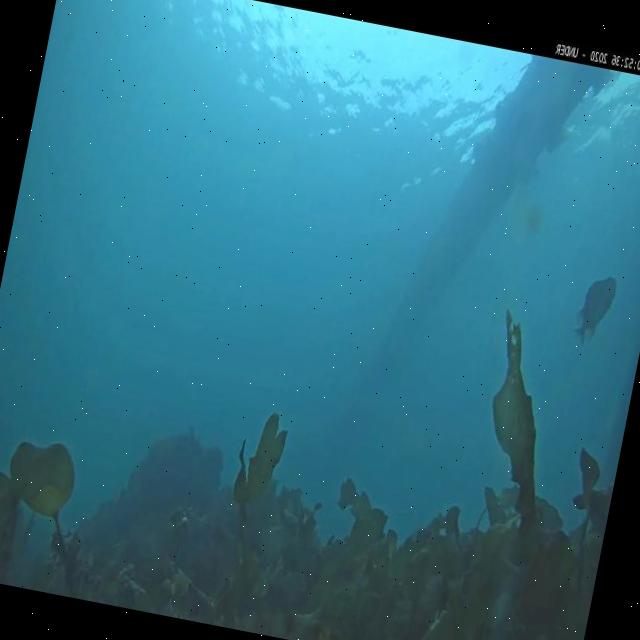fish: (569, 270, 617, 350)
